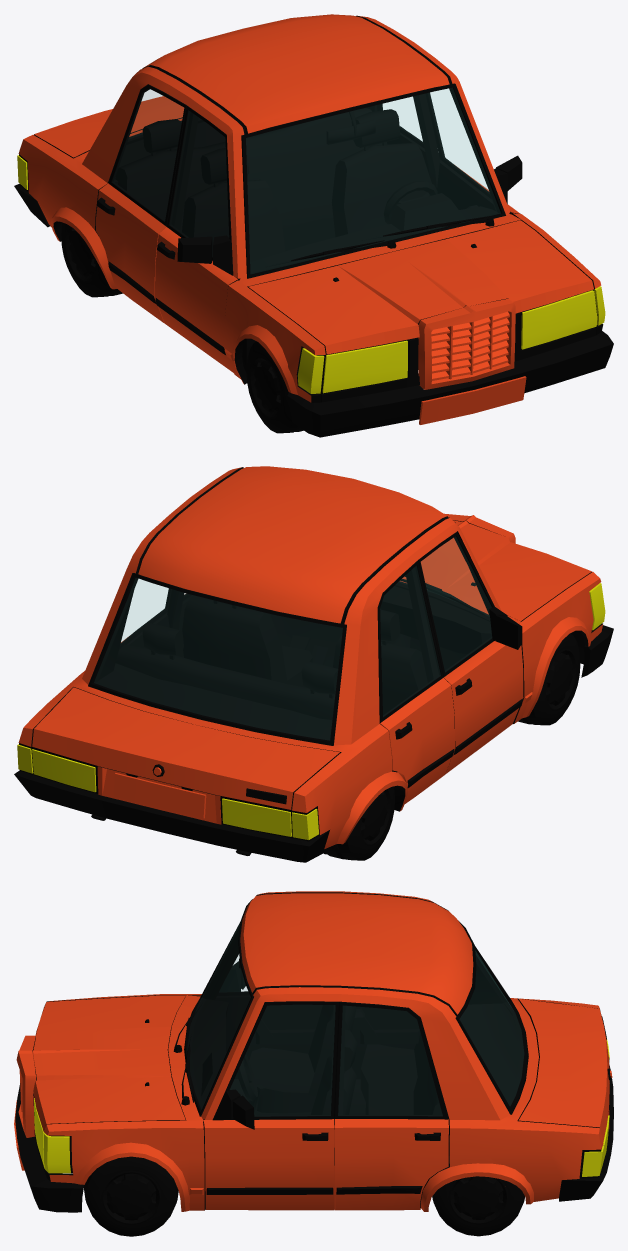
File: car3.fbx
3 views of the same model, one above another, from view 1: azimuth 30°, elevation 25°; view 2: azimuth 150°, elevation 25°; view 3: azimuth 270°, elevation 25° (orthographic). The views are drawn at different scales.
Visible parts, largest first — view 1: Body; view 2: Body; view 3: Body.
Boxes of the visible parts, left/top/right/bottom form: Body: left=14, top=14, right=613, bottom=437; Body: left=14, top=466, right=613, bottom=862; Body: left=14, top=891, right=613, bottom=1236.
Bounding box in the file's own units: 131 × 94.57 × 213.
